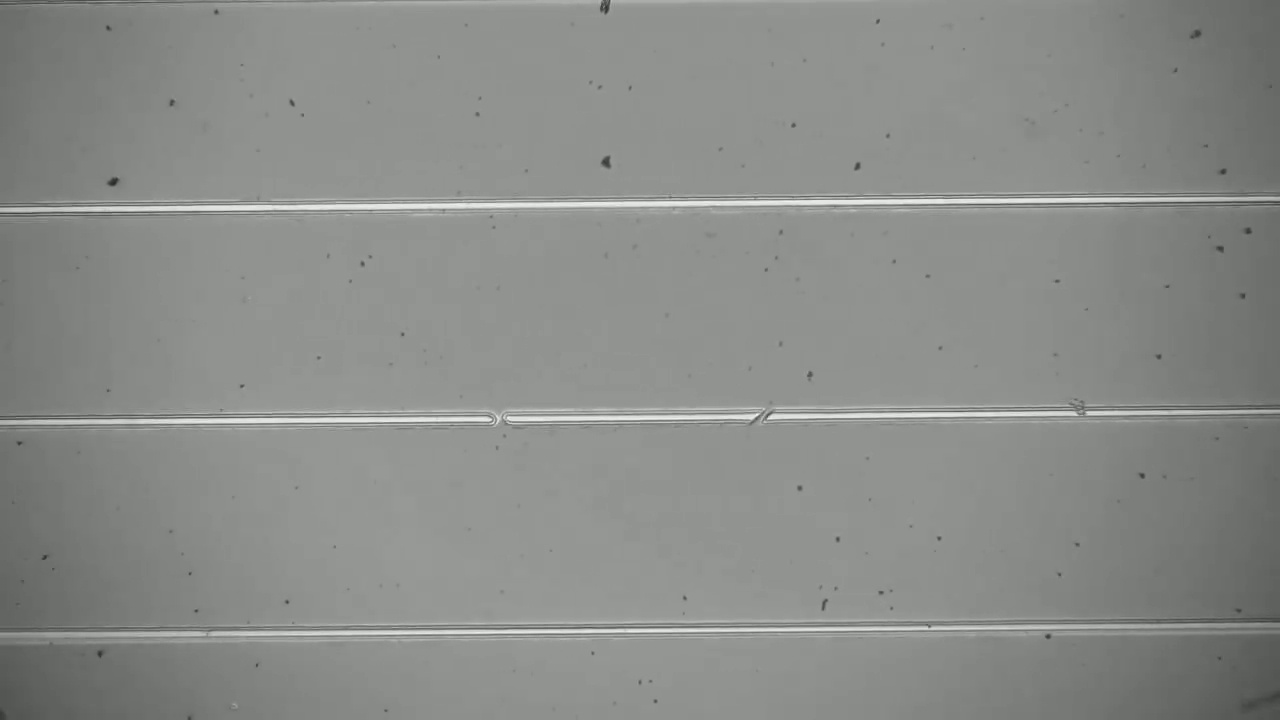open: (477, 398, 518, 440), (742, 398, 784, 436)
stains_enbedded: (1058, 389, 1101, 430)
